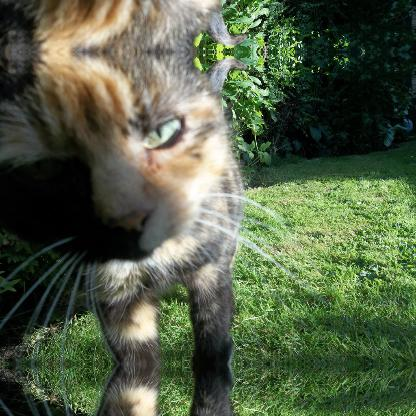Cat: (0, 52, 294, 362)
